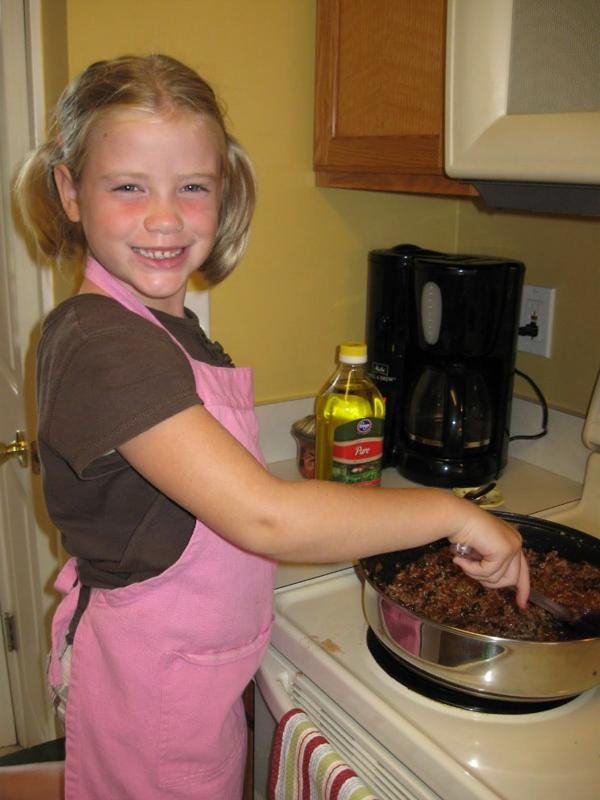person: (39, 56, 527, 797)
